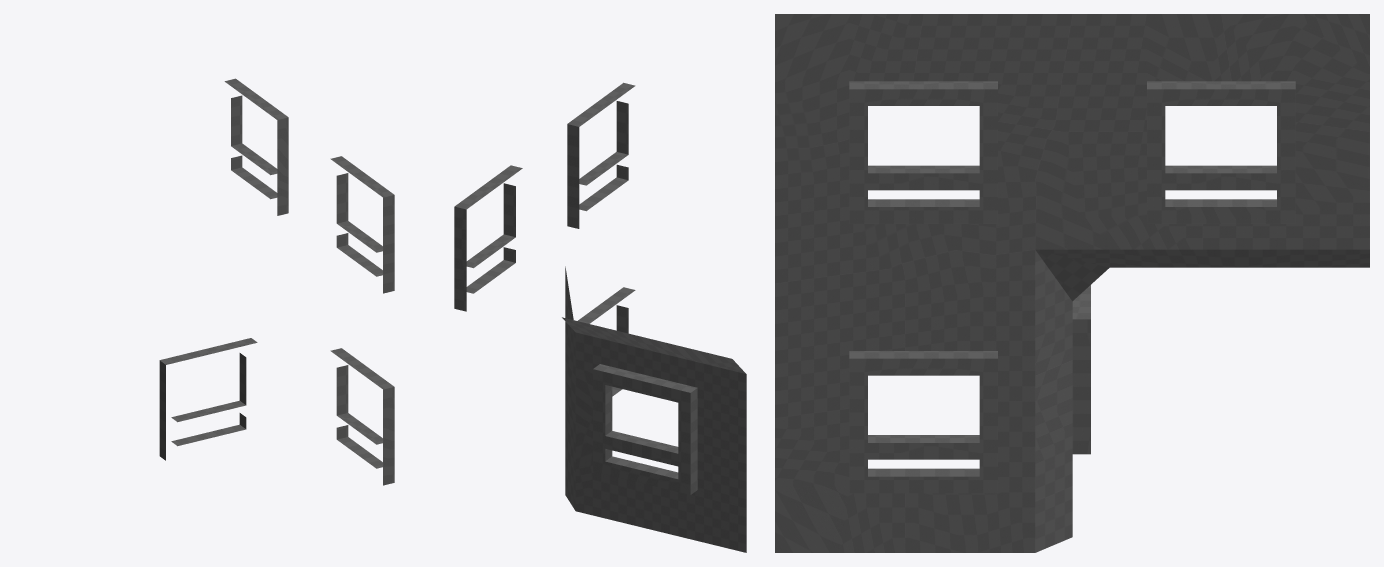
3 views of the same model, side by side, from view 1: azimuth 30°, elevation 25°; view 2: azimuth 150°, elevation 25°; view 3: azimuth 270°, elevation 25° (orthographic). The views are drawn at different scales.
Visible parts, largest first — view 1: 4; view 2: 4; view 3: 4.
Boxes of the visible parts, x1,y1,x2,y2 form: 4: (159,78,394,485); 4: (454,82,746,552); 4: (775,14,1369,552).
Bounding box in the file's own units: 2.12 × 4 × 4.
2 materials, 2 textured.
